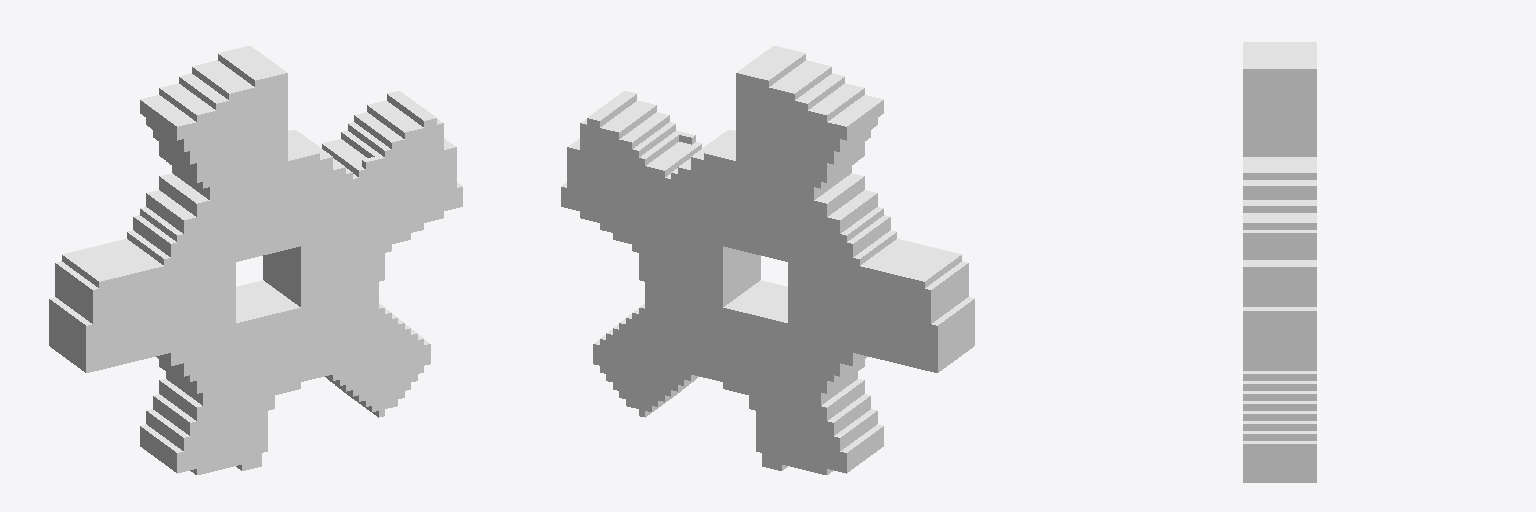
Rendered from rueda.obj.
3 renders of one model, left to right at view 1: azimuth 30°, elevation 25°; view 2: azimuth 150°, elevation 25°; view 3: azimuth 270°, elevation 25°, orthographic.
Parts seen in each view (by area): view 1: RUEDA_ENGRANE; view 2: RUEDA_ENGRANE; view 3: RUEDA_ENGRANE.
Boxes of the visible parts, x1=… form: RUEDA_ENGRANE: x1=49, y1=46, x2=462, y2=474; RUEDA_ENGRANE: x1=561, y1=46, x2=974, y2=474; RUEDA_ENGRANE: x1=1243, y1=42, x2=1316, y2=482.
Bounding box in the file's own units: 4.06 × 3.99 × 0.7.